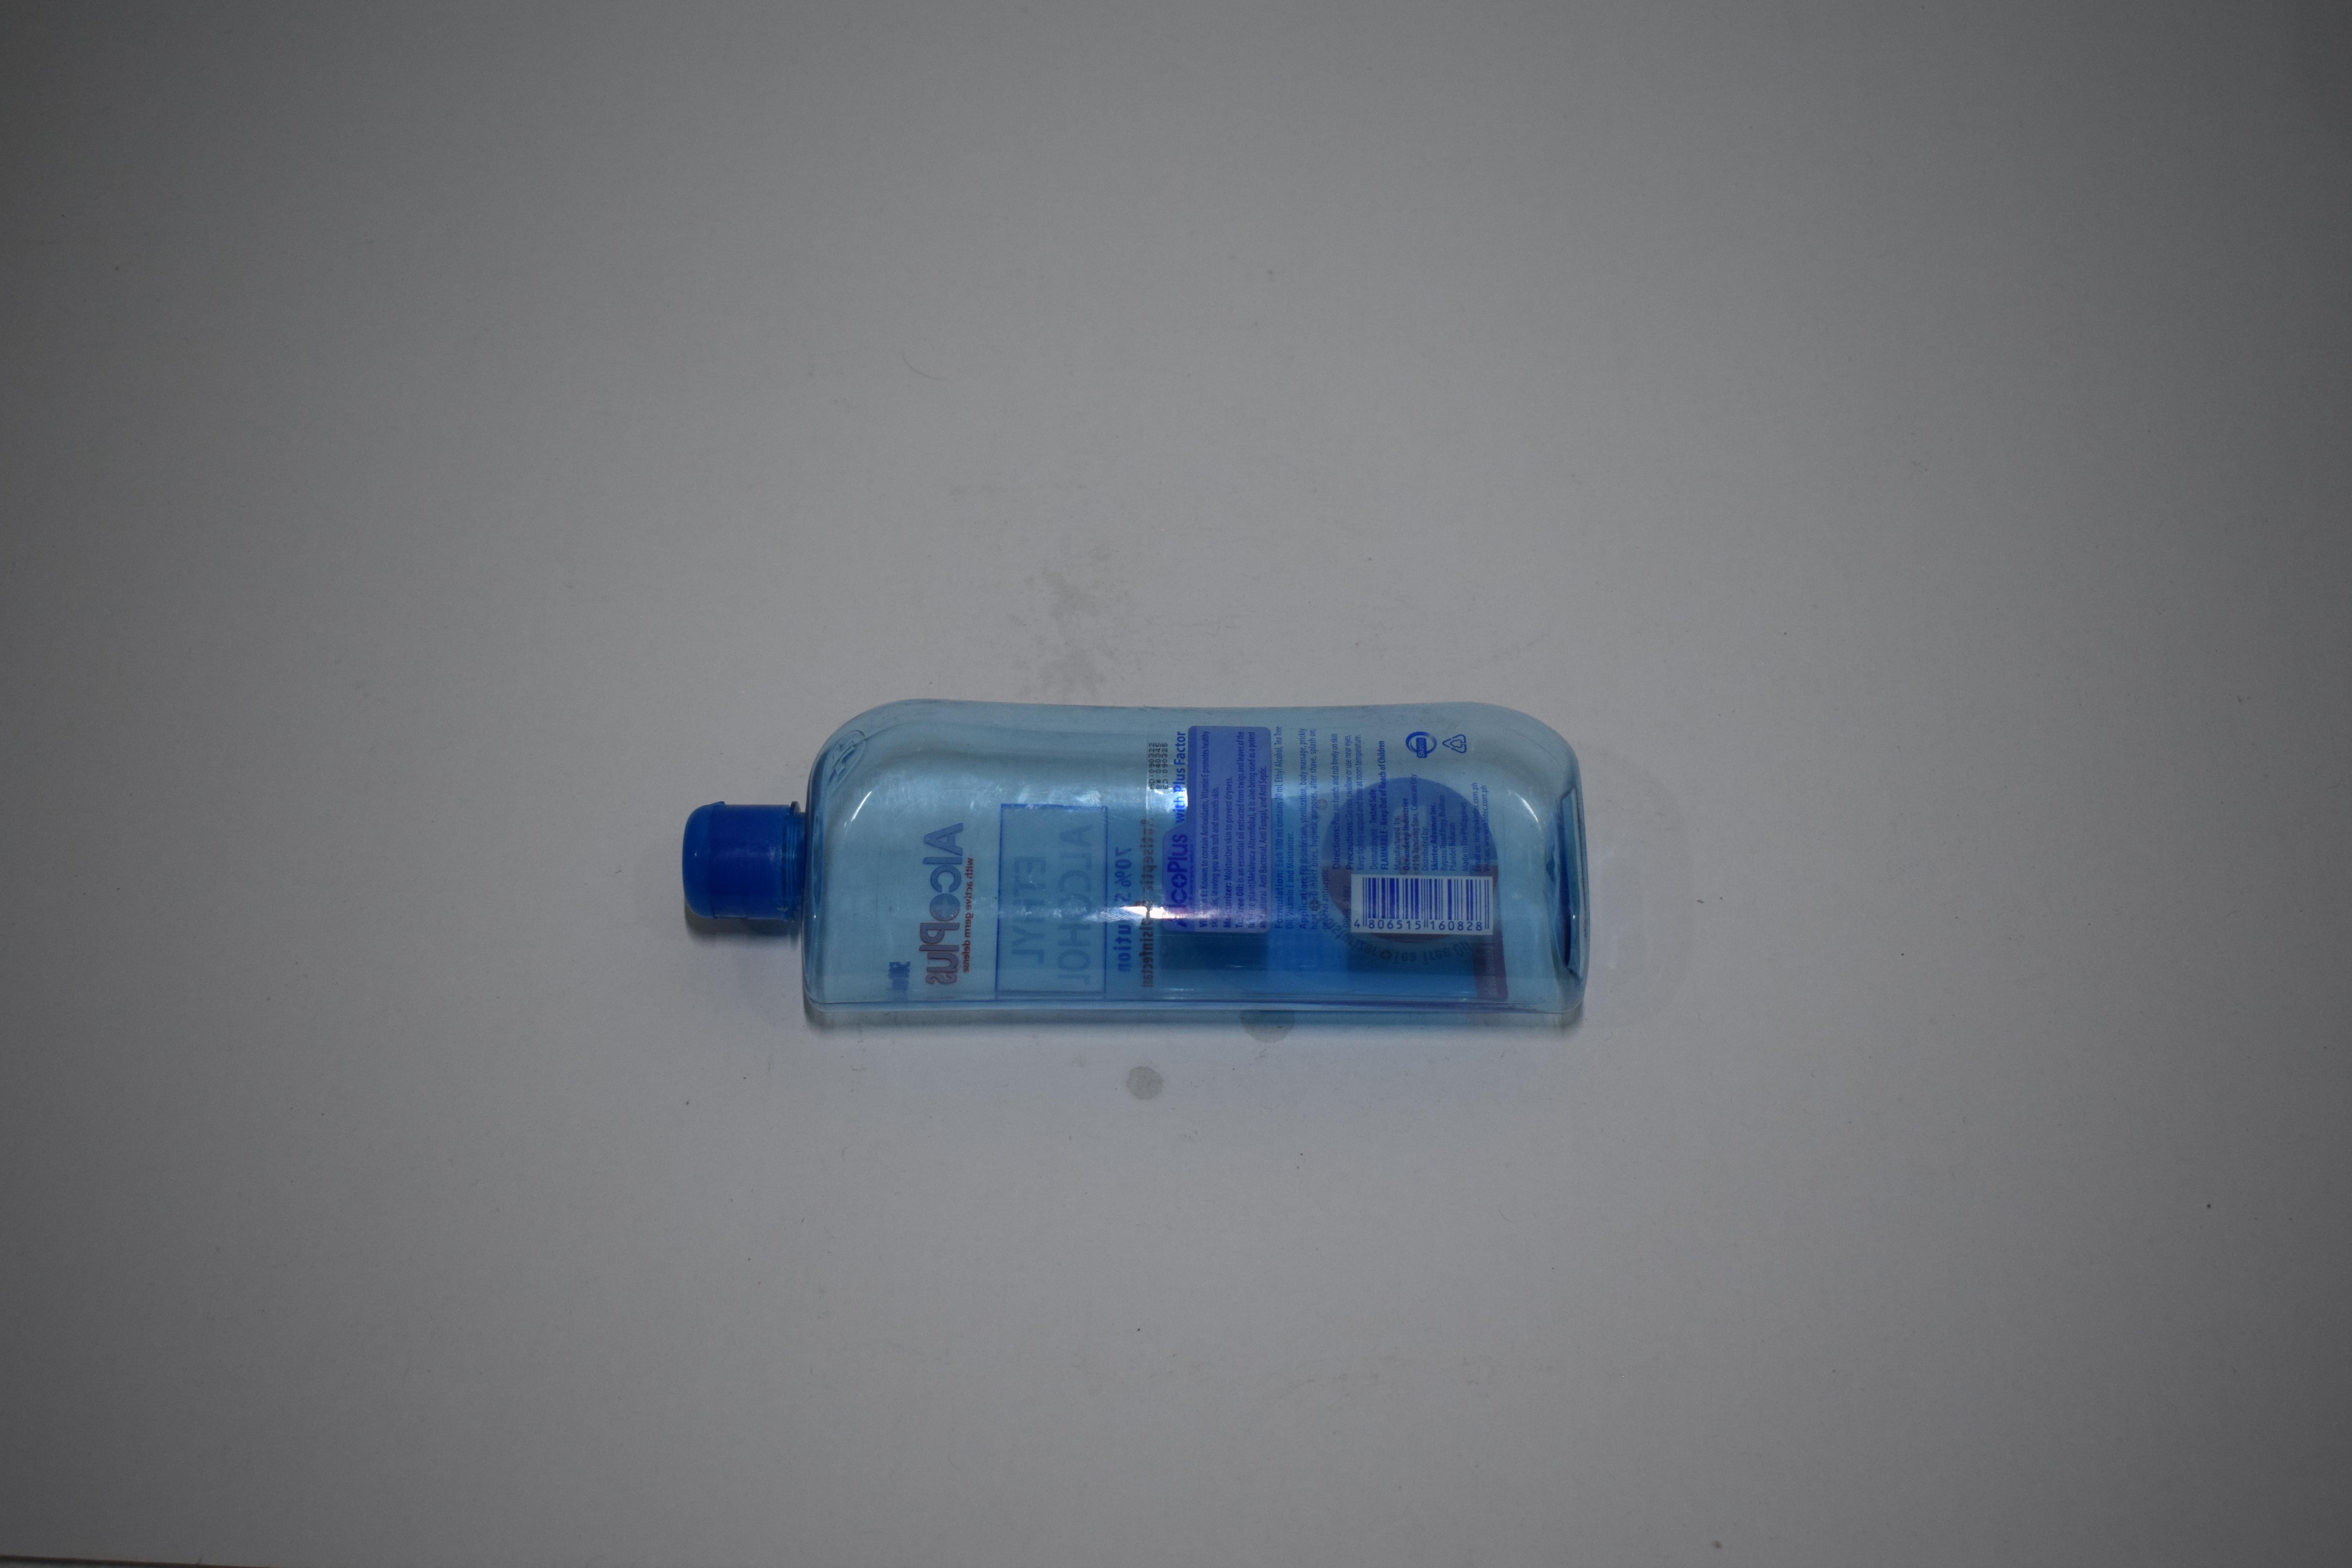bottle: (674, 0, 1594, 180)
